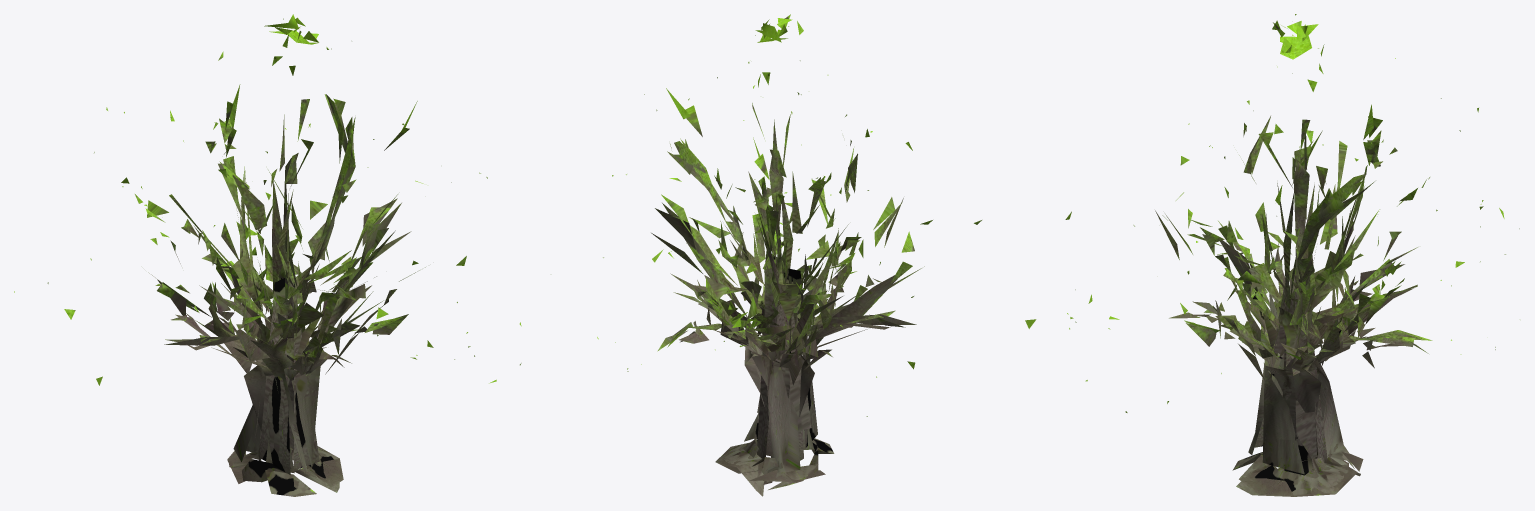
Rendered from Tree.glb.
The picture shows the model from 3 angles, left to right: view 1: azimuth 30°, elevation 25°; view 2: azimuth 150°, elevation 25°; view 3: azimuth 270°, elevation 25°; orthographic projection. The views are drawn at different scales.
Parts seen in each view (by area): view 1: Mesh0; view 2: Mesh0; view 3: Mesh0.
Part boxes in pixels (box(x1,y1,x2,y2)): Mesh0: box(14, 14, 521, 496); Mesh0: box(597, 14, 1036, 496); Mesh0: box(1065, 14, 1519, 496).
Size of the model in its own units: 1.65 by 1.85 by 1.63.
Materials: 1 (1 with a texture image).
